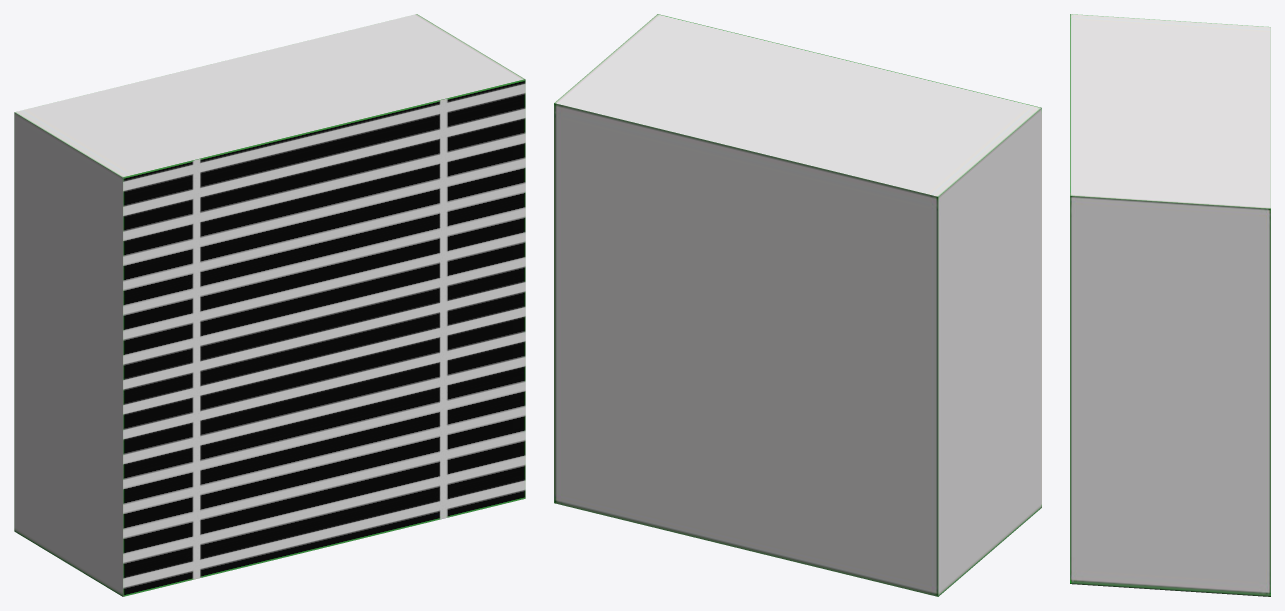
Rendered from Animated_fan 1.fbx.
3 views of the same model, side by side, from view 1: azimuth 30°, elevation 25°; view 2: azimuth 150°, elevation 25°; view 3: azimuth 270°, elevation 25° (orthographic). The views are drawn at different scales.
Visible parts, largest first — view 1: Motorhousing; view 2: Motorhousing; view 3: Motorhousing.
Boxes of the visible parts, x1,y1,x2,y2 form: Motorhousing: [14, 14, 525, 596]; Motorhousing: [554, 14, 1041, 596]; Motorhousing: [1070, 14, 1270, 596].
Size of the model in its own units: 3.97 by 4.08 by 1.85.
Materials: 3 (3 with a texture image).
